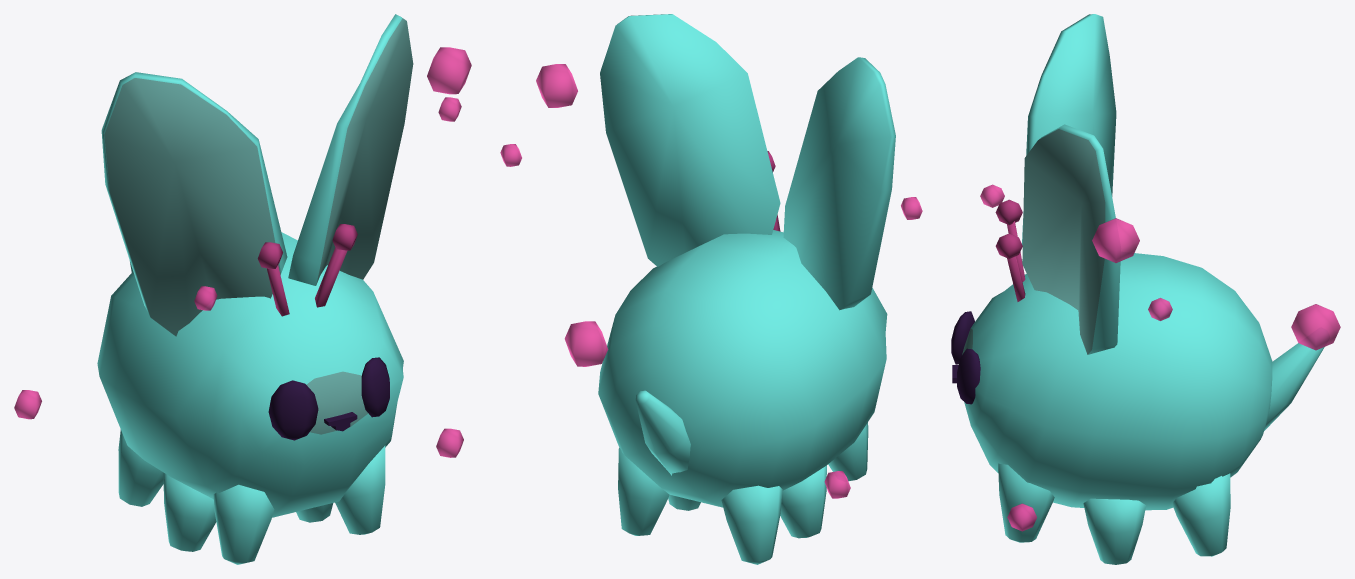
Rendered from Customer_Quiet.fbx.
3 views of the same model, side by side, from view 1: azimuth 30°, elevation 25°; view 2: azimuth 150°, elevation 25°; view 3: azimuth 270°, elevation 25° (orthographic). The views are drawn at different scales.
Visible parts, largest first — view 1: Final_Quiet, Quiet_Particles; view 2: Final_Quiet, Quiet_Particles; view 3: Final_Quiet, Quiet_Particles.
Part boxes in pixels (x1,y1,x2,y2): Final_Quiet: (97,14,413,564); Quiet_Particles: (14,47,471,457); Final_Quiet: (598,14,895,564); Quiet_Particles: (500,64,922,498); Final_Quiet: (951,14,1324,564); Quiet_Particles: (980,184,1340,531).
Bounding box in the file's own units: 246 × 288 × 218.
